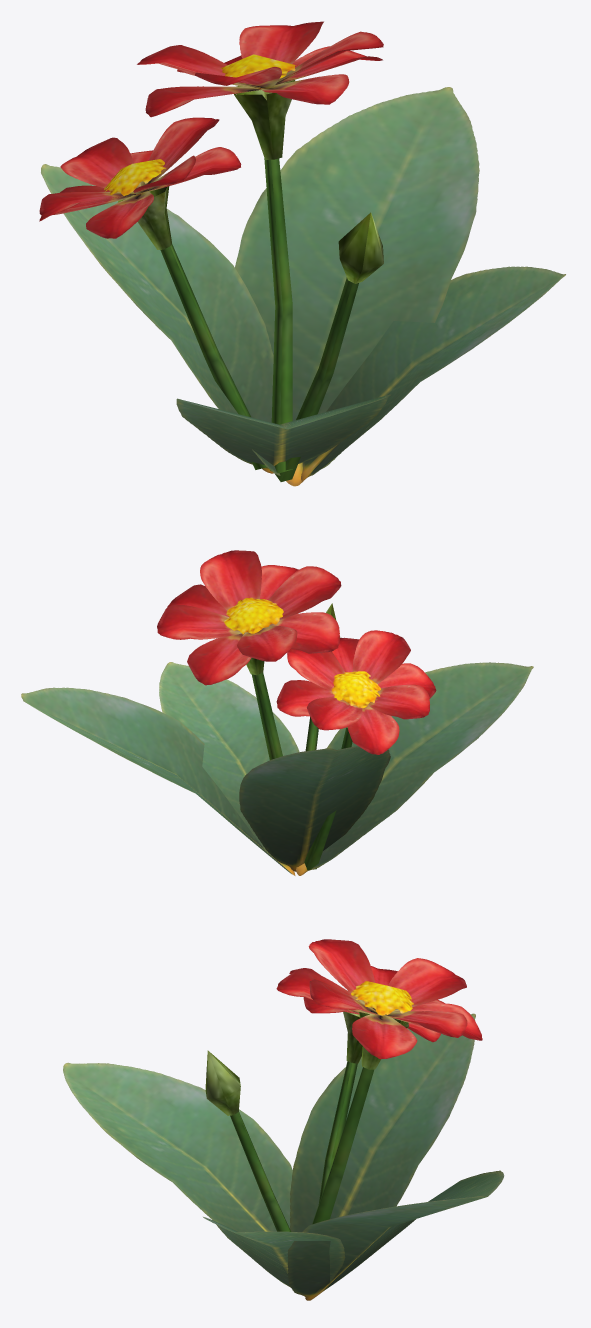
The model's file is redf3.fbx.
3 renders of one model, top to bottom at view 1: azimuth 30°, elevation 25°; view 2: azimuth 150°, elevation 25°; view 3: azimuth 270°, elevation 25°, orthographic. The views are drawn at different scales.
Parts seen in each view (by area): view 1: redflower03; view 2: redflower03; view 3: redflower03.
Boxes of the visible parts, x1=… form: redflower03: x1=39, y1=21, x2=565, y2=486; redflower03: x1=21, y1=550, x2=533, y2=875; redflower03: x1=63, y1=939, x2=504, y2=1300.
Size of the model in its own units: 37.19 by 26.44 by 38.86.
